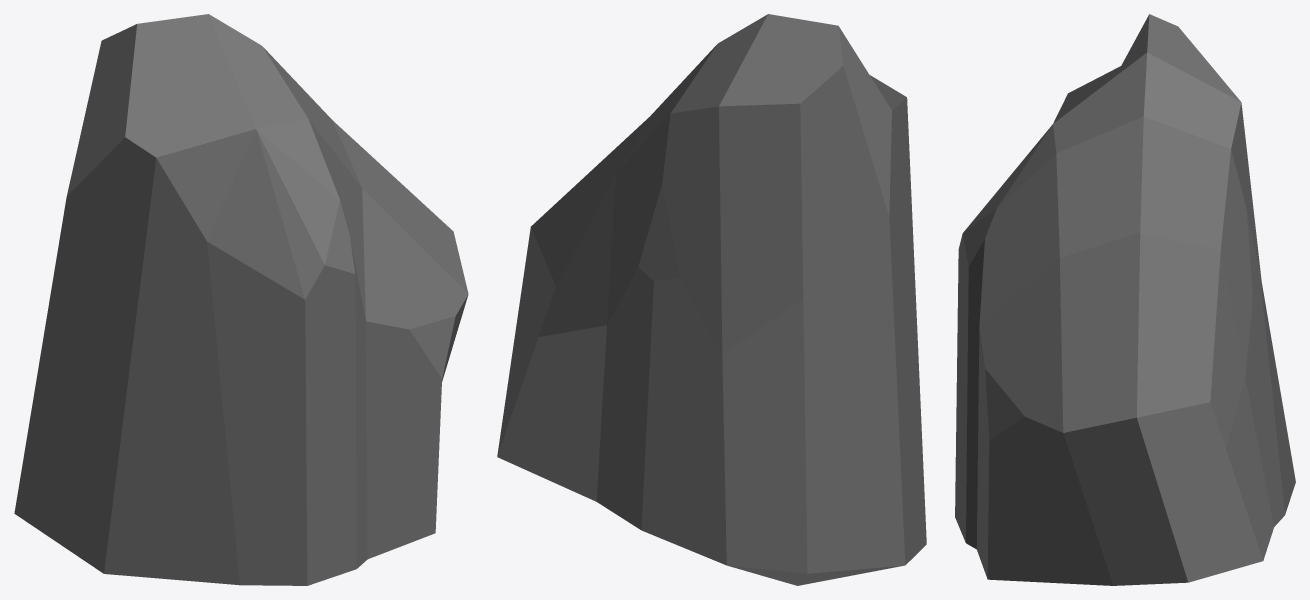
The model's file is Stein_Groß_001.fbx.
The picture shows the model from 3 angles, left to right: view 1: azimuth 30°, elevation 25°; view 2: azimuth 150°, elevation 25°; view 3: azimuth 270°, elevation 25°; orthographic projection. The views are drawn at different scales.
Parts seen in each view (by area): view 1: Stein_Groß_001; view 2: Stein_Groß_001; view 3: Stein_Groß_001.
Part boxes in pixels (left/top/right/bottom): Stein_Groß_001: left=14, top=14, right=468, bottom=585; Stein_Groß_001: left=497, top=14, right=926, bottom=585; Stein_Groß_001: left=955, top=14, right=1295, bottom=585.
Size of the model in its own units: 263 by 334 by 205.
